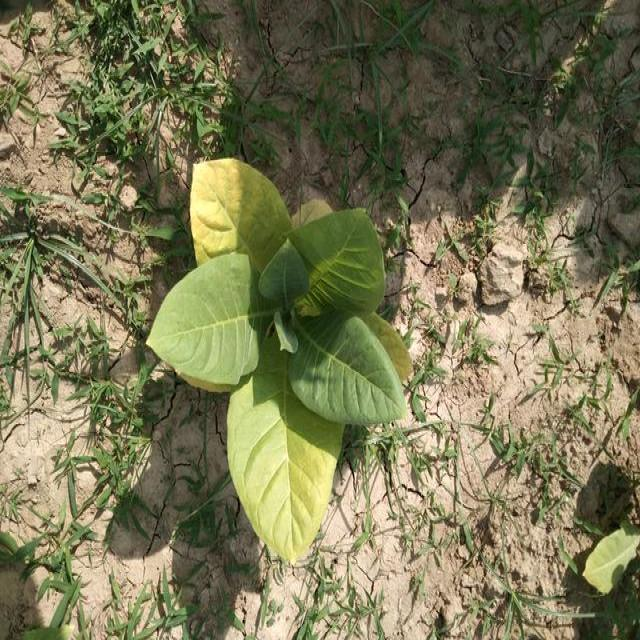crop: (150, 148, 409, 579)
